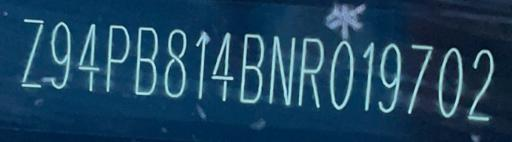letter: (266, 30, 296, 104), (208, 28, 236, 106), (467, 45, 495, 122), (297, 35, 325, 110), (104, 22, 132, 97), (238, 31, 266, 106), (406, 40, 434, 114), (436, 44, 464, 118), (328, 36, 356, 109), (132, 25, 160, 95), (162, 25, 188, 100), (75, 21, 101, 95), (376, 40, 402, 112), (47, 19, 73, 91), (20, 15, 44, 92), (360, 38, 376, 112), (192, 27, 208, 100)
